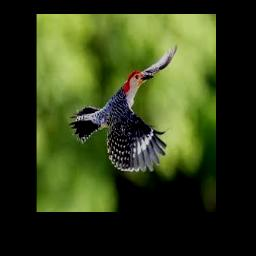Woodpecker: (70, 43, 177, 172)
